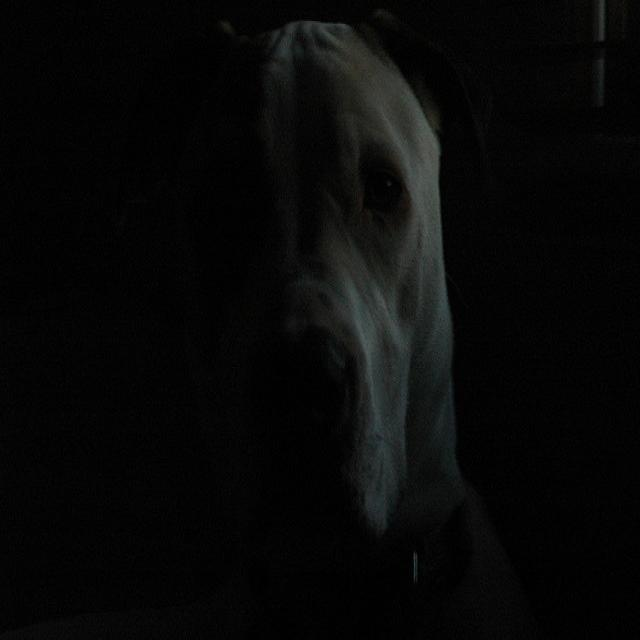Dog: (157, 44, 603, 621)
